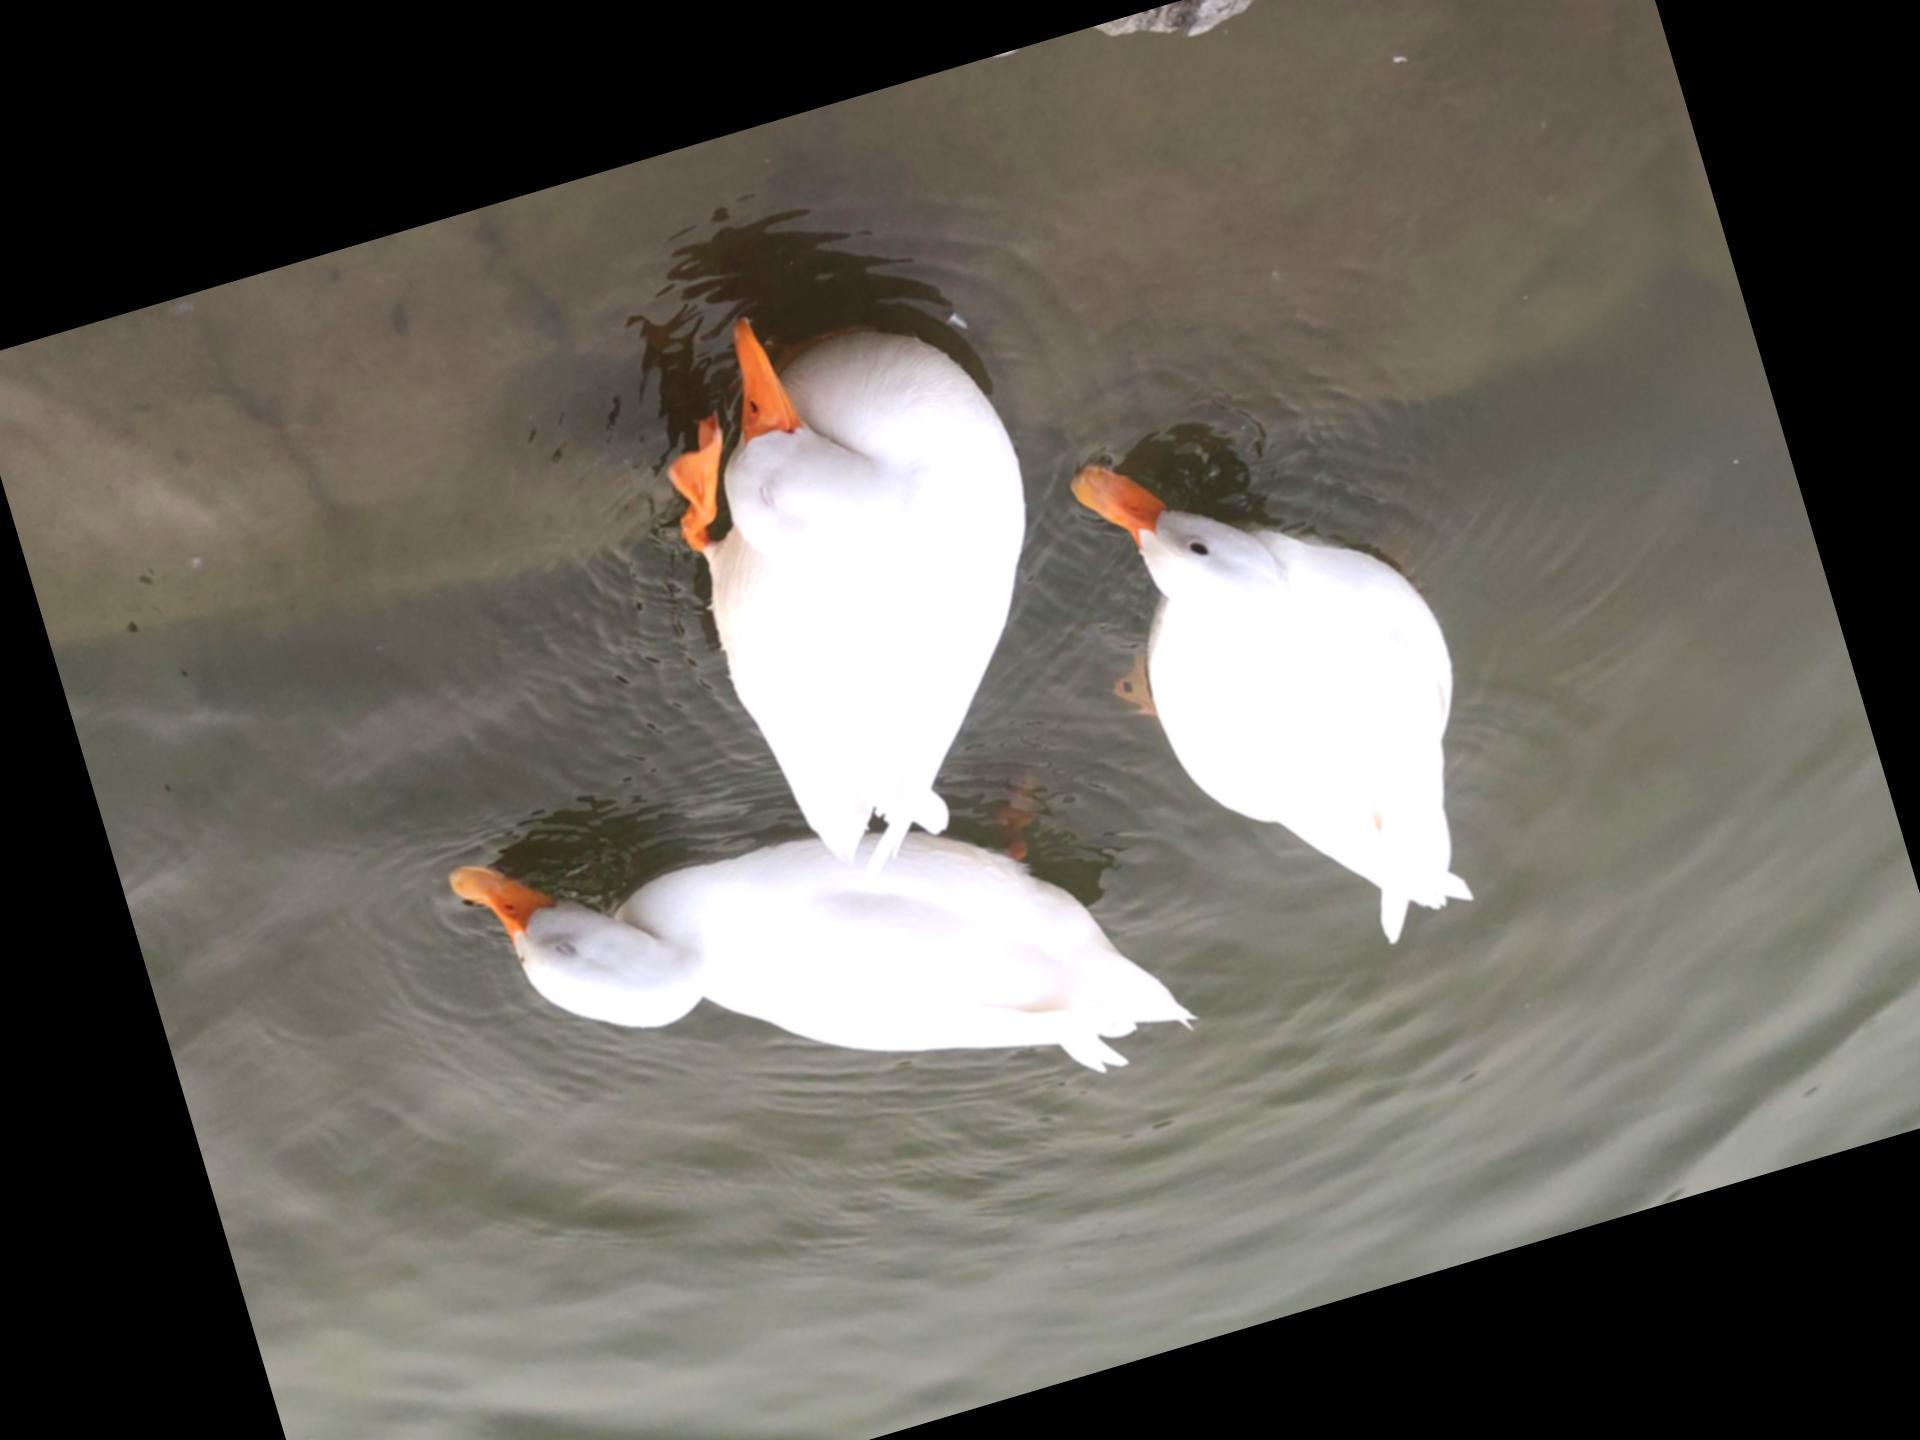duck: (423, 653, 1229, 1263), (600, 239, 1143, 923), (1054, 366, 1559, 1013)
